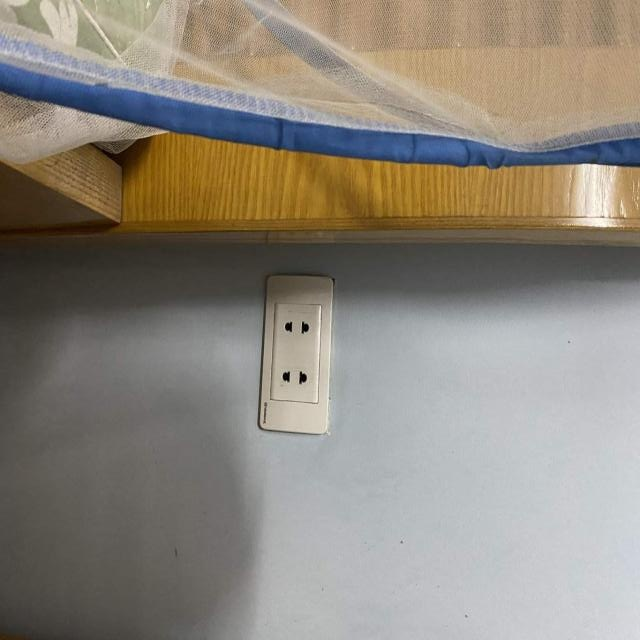outlet: (258, 273, 335, 435)
